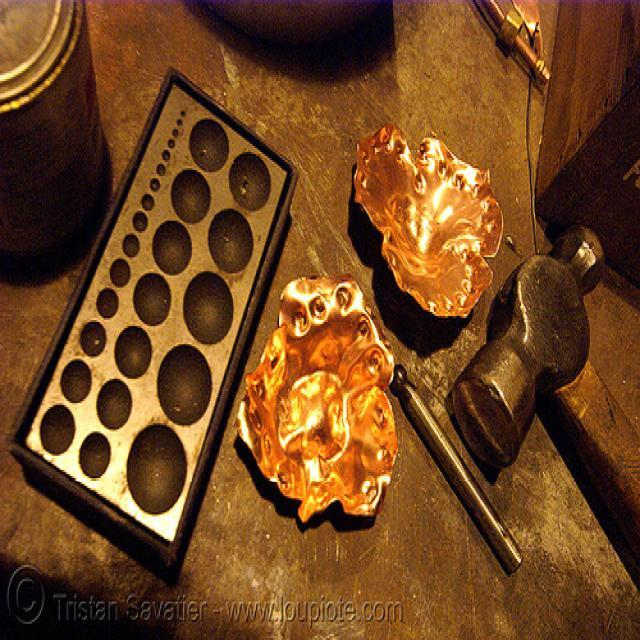hammer: (444, 192, 640, 605)
